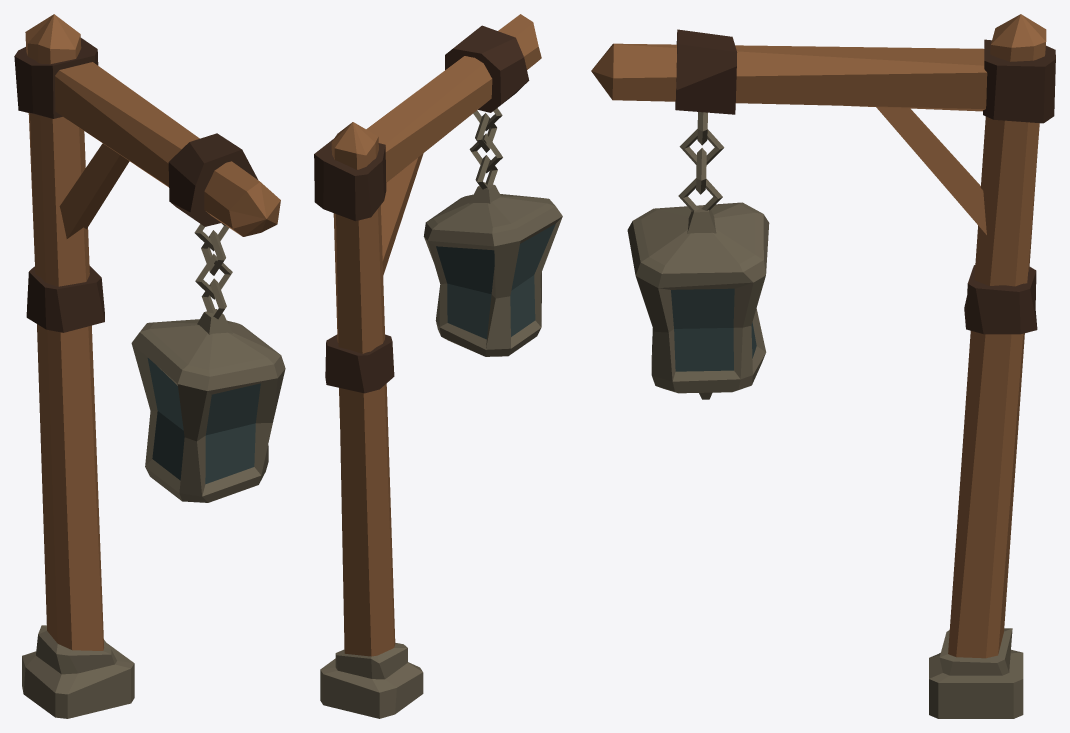
The model's file is SM_L_street_Lamp.fbx.
The picture shows the model from 3 angles, left to right: view 1: azimuth 30°, elevation 25°; view 2: azimuth 150°, elevation 25°; view 3: azimuth 270°, elevation 25°; orthographic projection. The views are drawn at different scales.
Visible parts, largest first — view 1: SM_L_Street_Lamp; view 2: SM_L_Street_Lamp; view 3: SM_L_Street_Lamp.
Part boxes in pixels (x1,y1,x2,y2): SM_L_Street_Lamp: (14, 14, 285, 718); SM_L_Street_Lamp: (314, 14, 562, 718); SM_L_Street_Lamp: (591, 14, 1055, 718).
Bounding box in the file's own units: 54.95 × 312 × 192.
